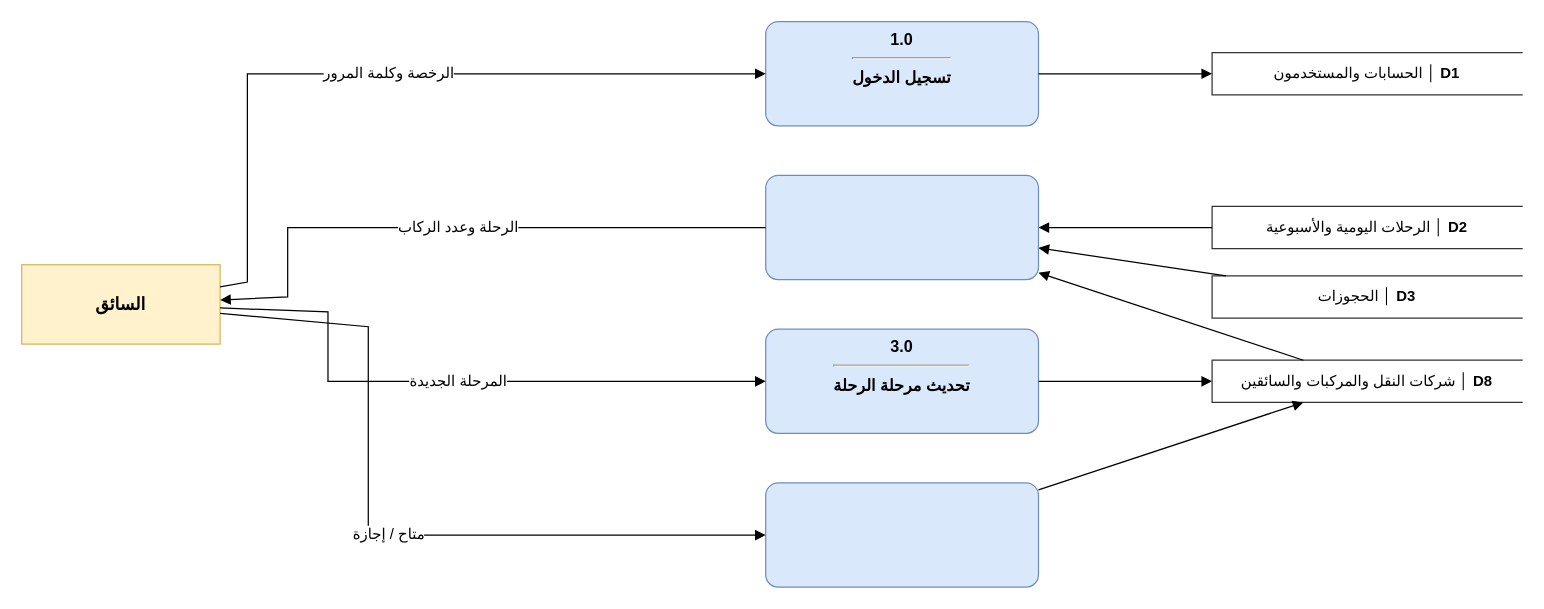
Image size: 1544x609. Some labels were removed from this diagram. The shapes that lost their labels are listed below. From the top down, each one's centre as x and y in pixels, then its label:
pixel 901 227: 2.0 عرض رحلة اليوم
pixel 901 534: 4.0 تغيير الحالة التشغيلية
